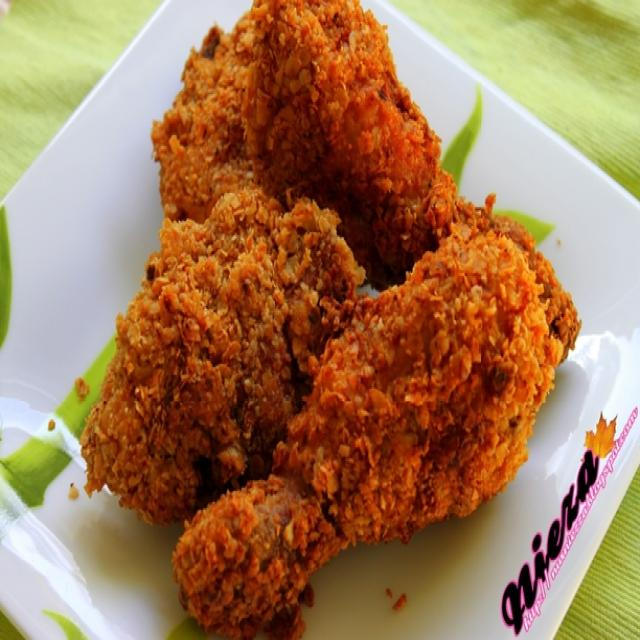鸡肉料理 含炸鸡: (49, 18, 571, 614)
